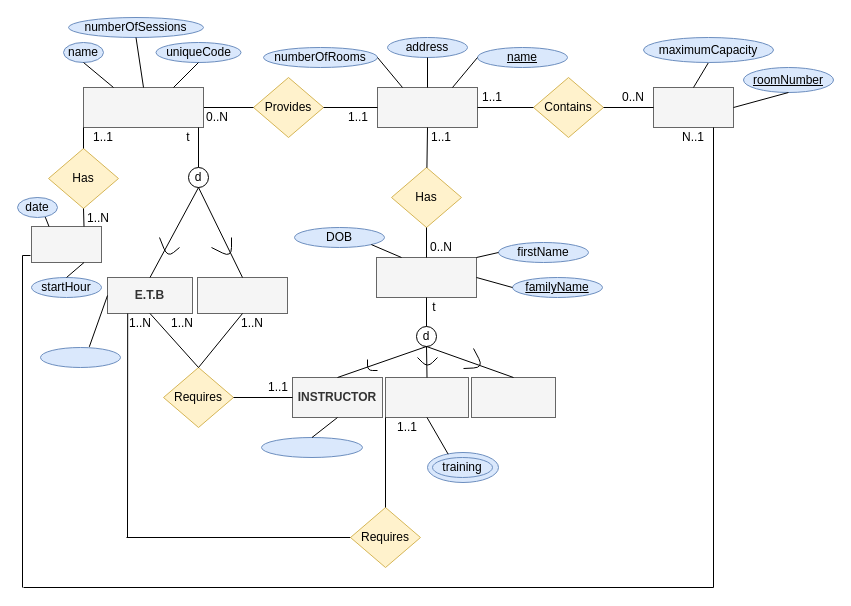
This 851x606 diagram has some shape labels left out. The box of each missing label's shape, as (x1, y1, x2, y2) in pixels:
ASSISTANT: (384, 376, 468, 418)
businessID: (40, 346, 120, 368)
CENTRE: (376, 86, 478, 128)
COURSE: (82, 86, 204, 128)
MEMBER: (470, 376, 556, 418)
O.T.A: (196, 276, 288, 314)
PEOPLE: (376, 256, 476, 298)
qualification: (260, 436, 362, 458)
ROOM: (652, 86, 734, 128)
SESSION: (30, 226, 102, 262)
